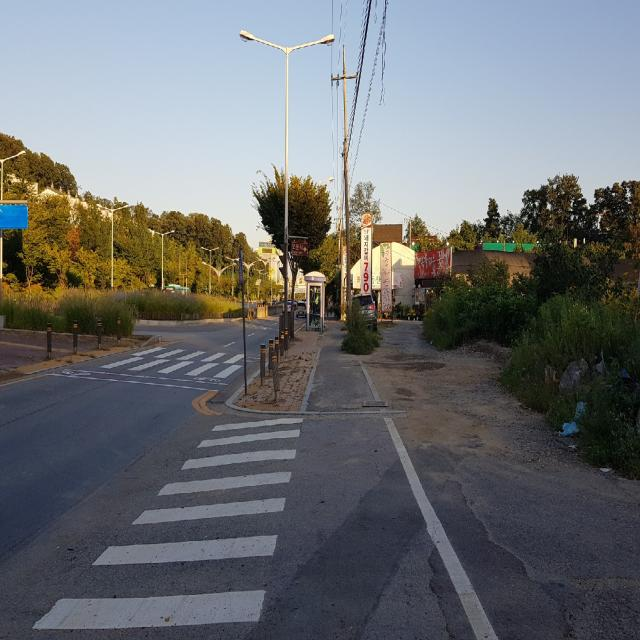횡단보도: (31, 416, 305, 633), (94, 326, 239, 393)
